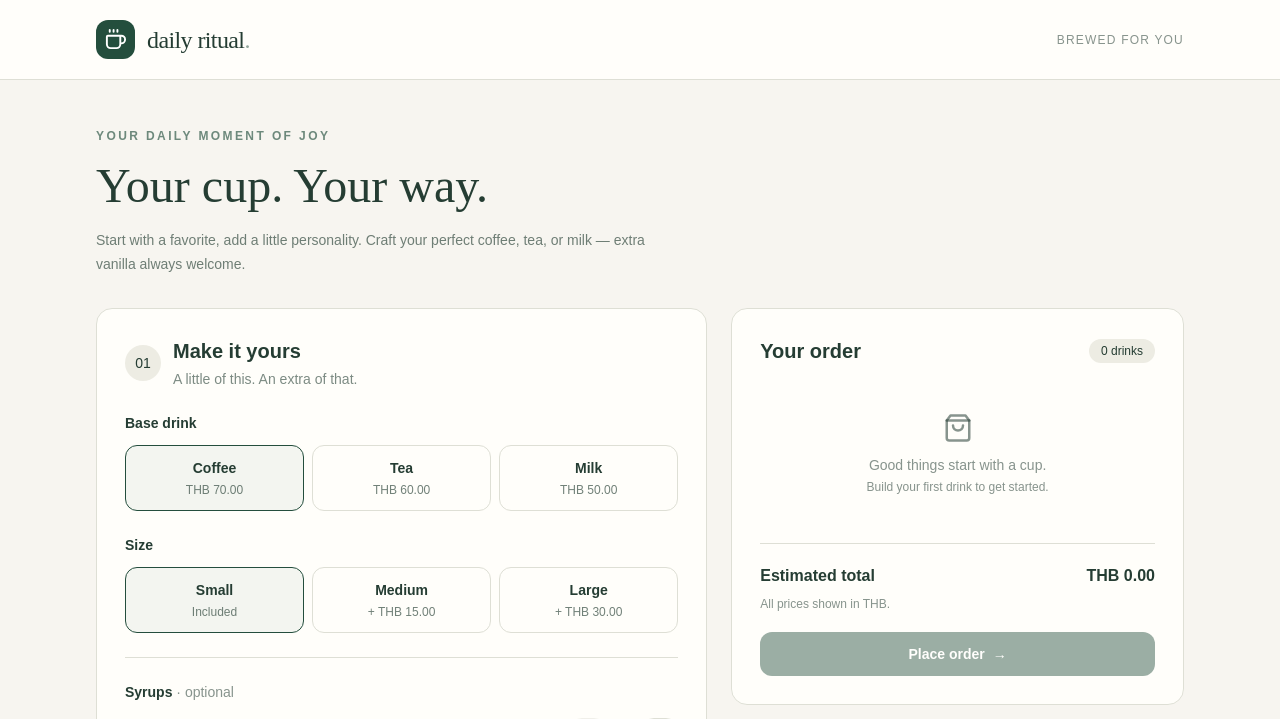
Scenario: Coffee ordering › selects Large size
Expected: the heading "Make it yours" is shown, [173, 340, 301, 362]
Click the radio button labelled "Large + THB 30.00" at (589, 600), box [499, 567, 678, 633]
(page scrolled)
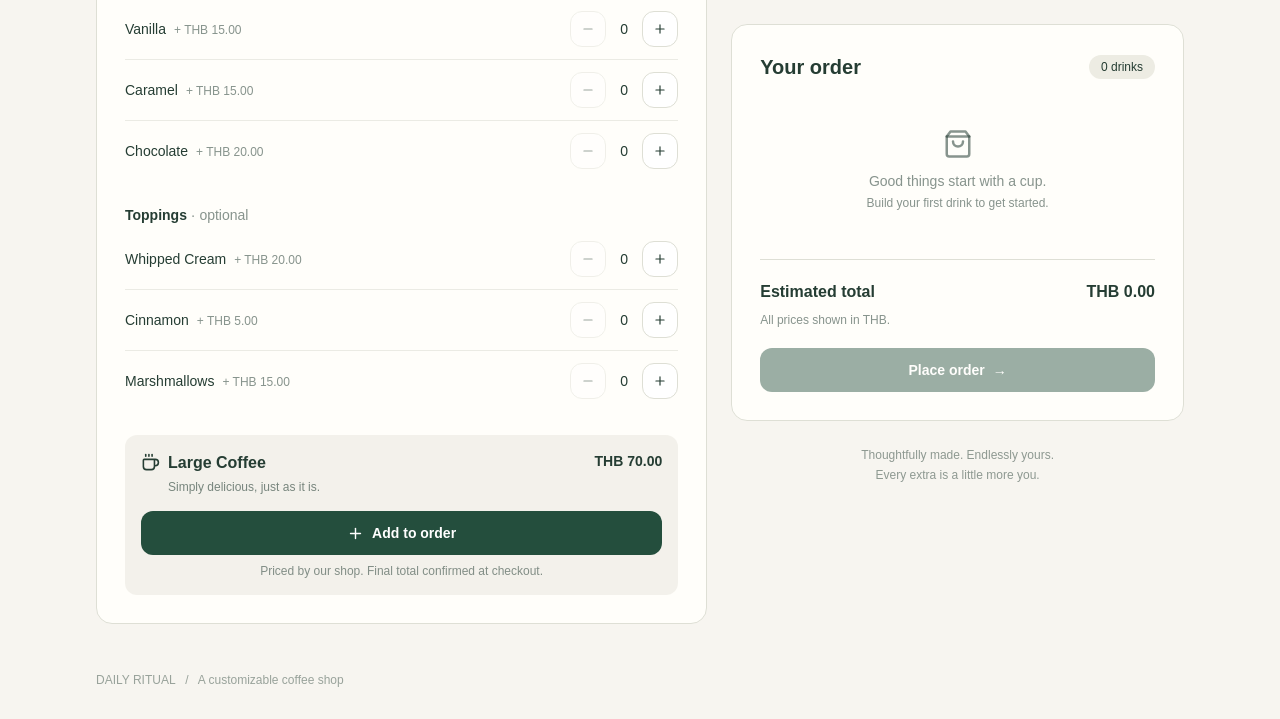
Expected: the heading "Large Coffee" is shown, [168, 454, 266, 471]
